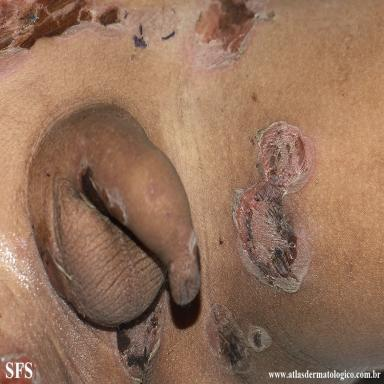Impetigo: (0, 0, 280, 88), (230, 118, 318, 296), (111, 290, 168, 384), (203, 302, 272, 376), (76, 155, 128, 226), (189, 228, 199, 263)
